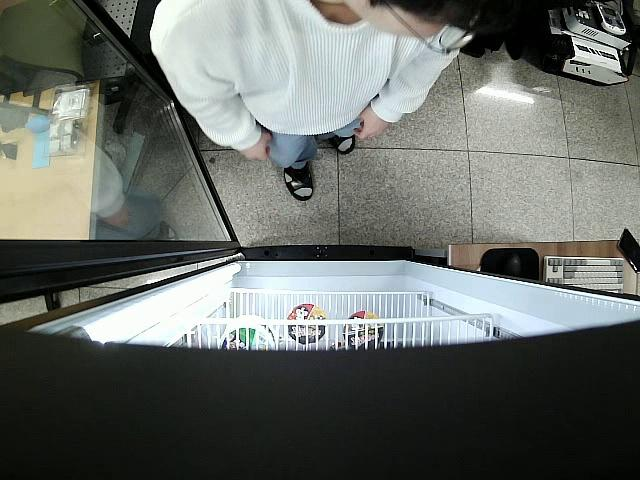00_hand: (353, 107, 387, 141)
